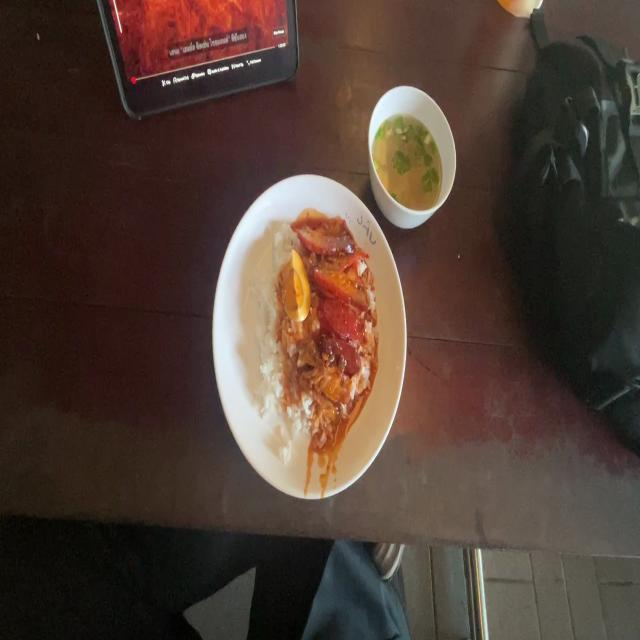01red_pork_and_crispy_pork: (262, 220, 371, 420)
